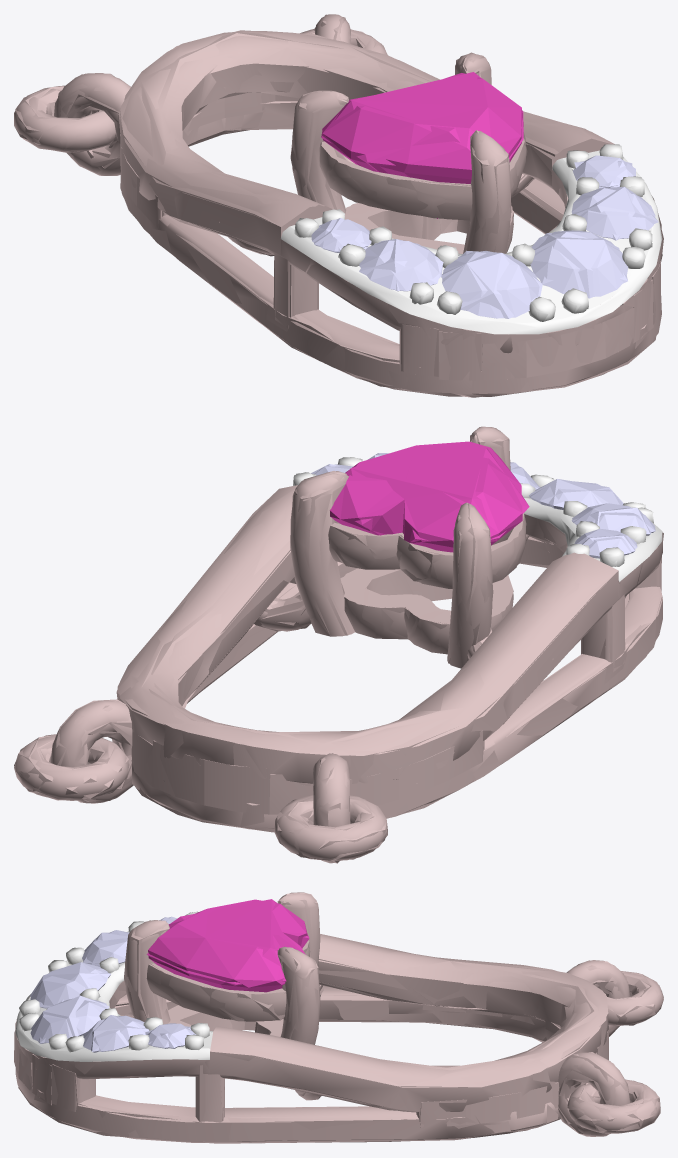
The model's file is DCP-D000733358.glb.
3 renders of one model, top to bottom at view 1: azimuth 30°, elevation 25°; view 2: azimuth 150°, elevation 25°; view 3: azimuth 270°, elevation 25°, orthographic. The views are drawn at different scales.
Visible parts, largest first — view 1: highPolyMesh, lowPolyMesh; view 2: highPolyMesh, lowPolyMesh; view 3: highPolyMesh, lowPolyMesh.
Part boxes in pixels (bbox=[...]): highPolyMesh: bbox=[14, 14, 662, 396]; lowPolyMesh: bbox=[15, 14, 663, 397]; highPolyMesh: bbox=[14, 426, 662, 863]; lowPolyMesh: bbox=[14, 426, 663, 863]; highPolyMesh: bbox=[15, 892, 663, 1143]; lowPolyMesh: bbox=[14, 893, 663, 1143].
Bounding box in the file's own units: 0.008 × 0.0044 × 0.0153.
